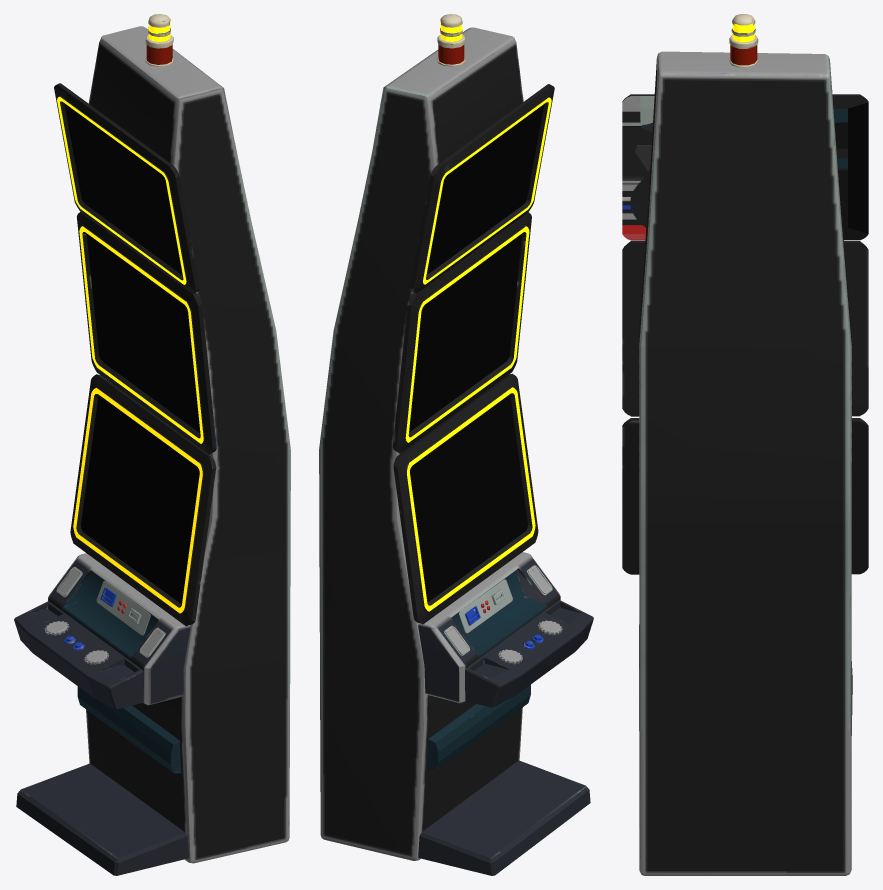
The model's file is Slot_02.fbx.
3 views of the same model, side by side, from view 1: azimuth 30°, elevation 25°; view 2: azimuth 150°, elevation 25°; view 3: azimuth 270°, elevation 25° (orthographic). The views are drawn at different scales.
Parts seen in each view (by area): view 1: Machine; view 2: Machine; view 3: Machine.
Boxes of the visible parts, x1,y1,x2,y2 form: Machine: [14, 14, 290, 875]; Machine: [319, 14, 593, 875]; Machine: [622, 14, 868, 875].
Bounding box in the file's own units: 62.11 × 262 × 71.03.
Materials: 3 (1 with a texture image).
